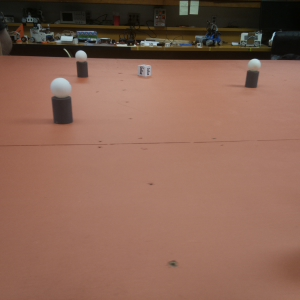blockF: (137, 63, 152, 80)
corner: (49, 77, 74, 126), (244, 59, 262, 88), (73, 48, 89, 79)
